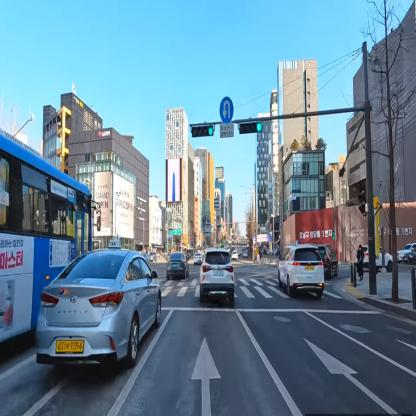Green: (238, 121, 264, 135), (191, 126, 214, 138)
